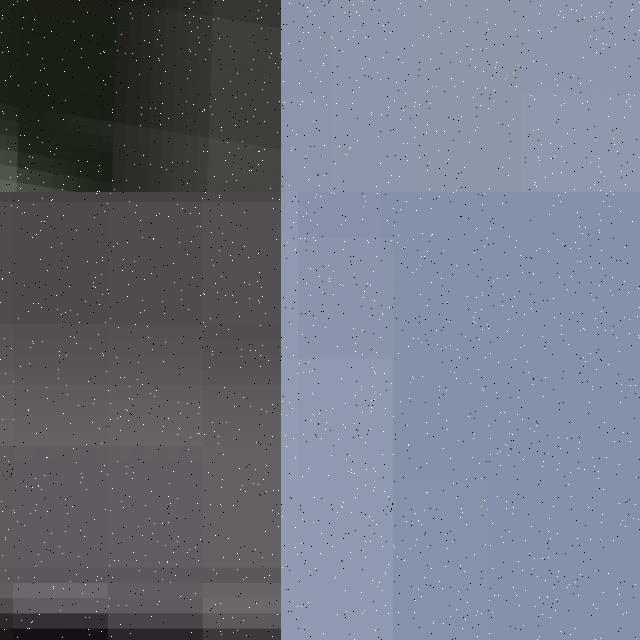drone: (0, 0, 281, 192)
